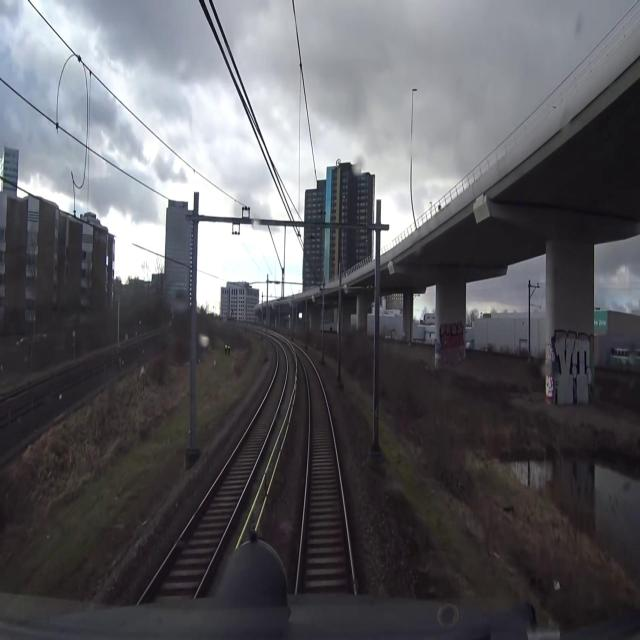rail-track: (143, 345, 285, 601), (292, 345, 351, 588)
